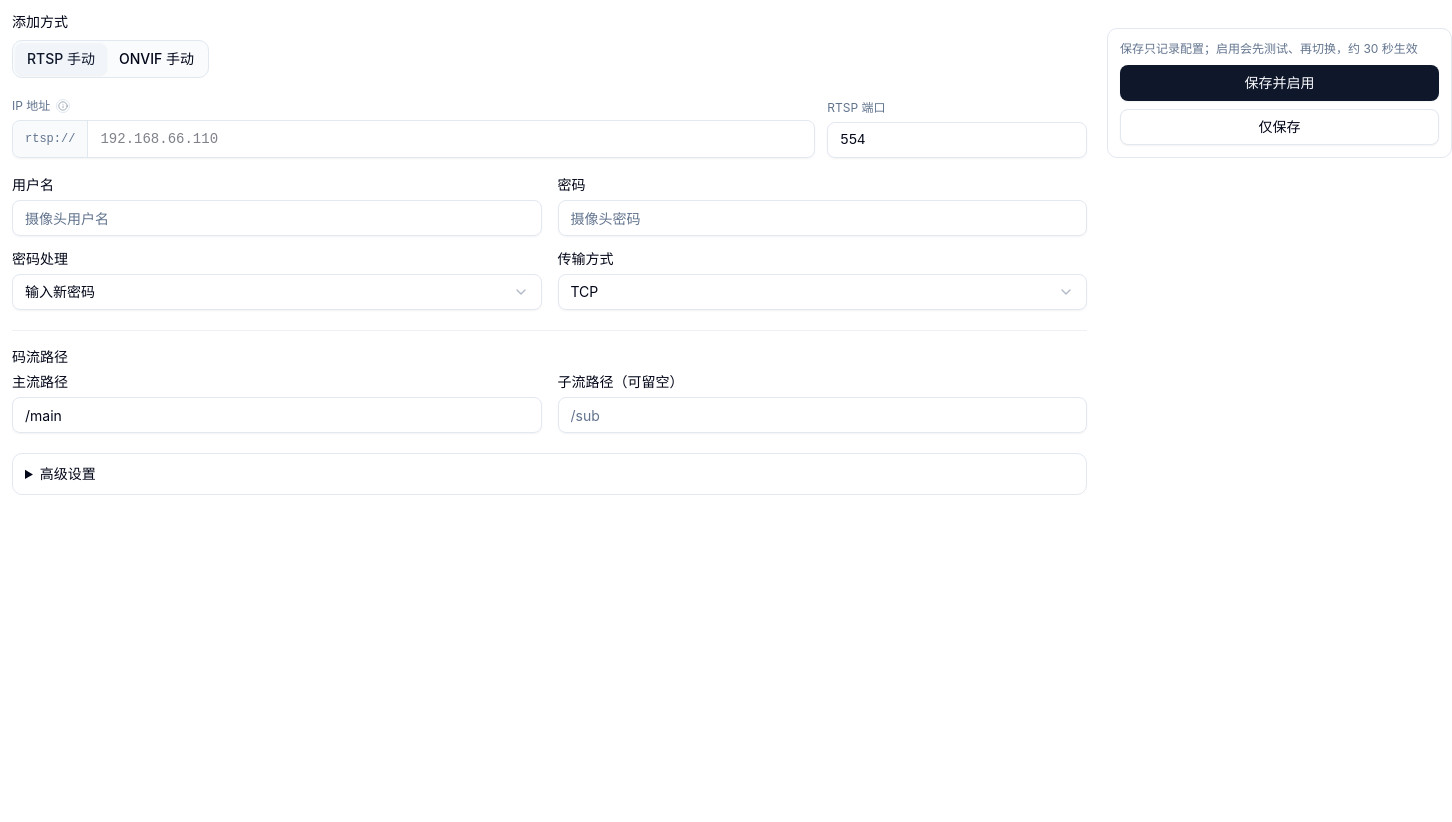
ONVIF asks the camera for its streams and fills the paths, never the password
Click the button "ONVIF 手动" at (156, 59), box [107,43,206,75]
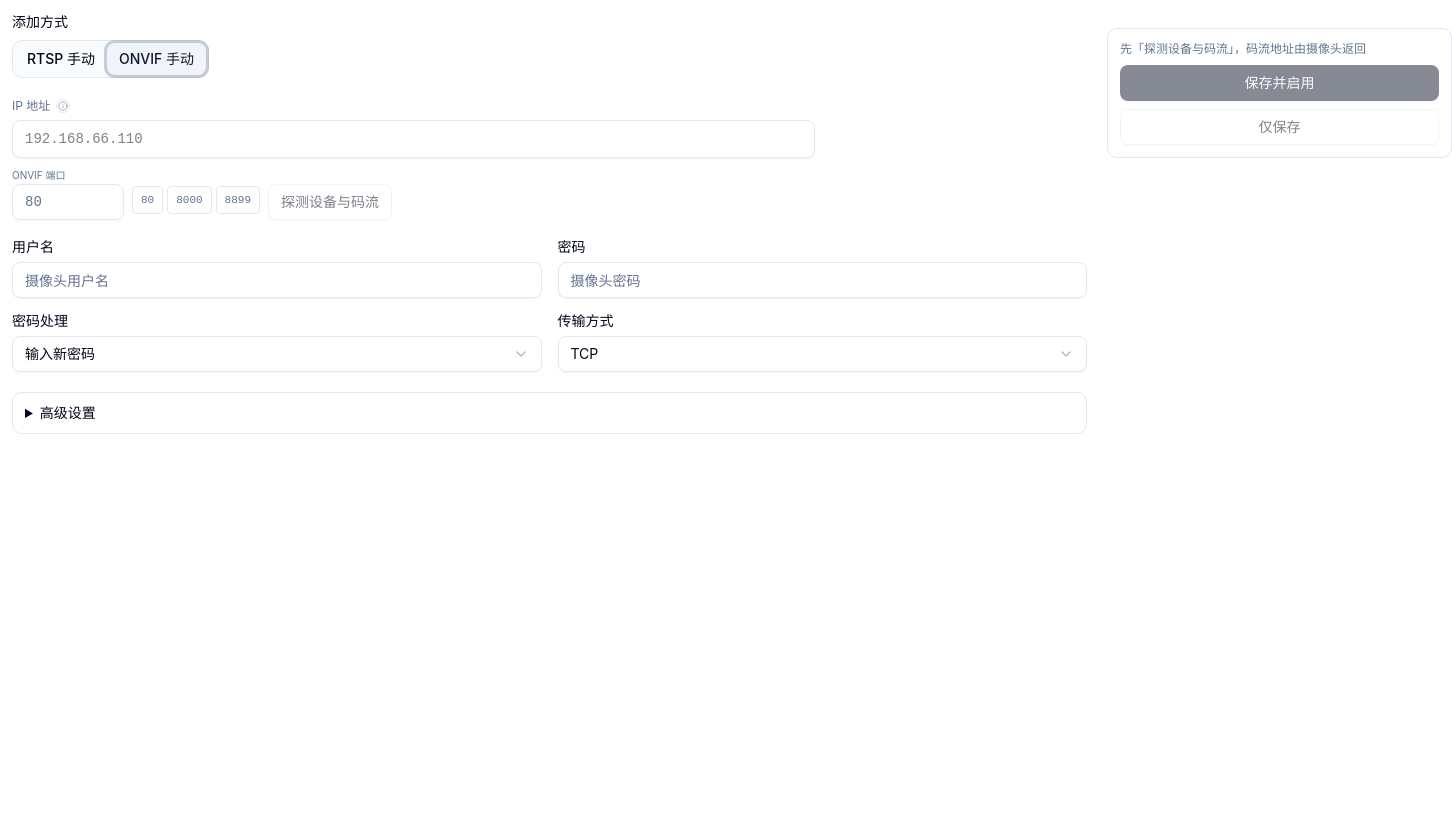
Now the button "仅保存" is disabled, box [1120,109,1439,145]
Type "192.168.33.20" into the field labelled "IP 地址" at (414, 139), box [13,121,814,157]
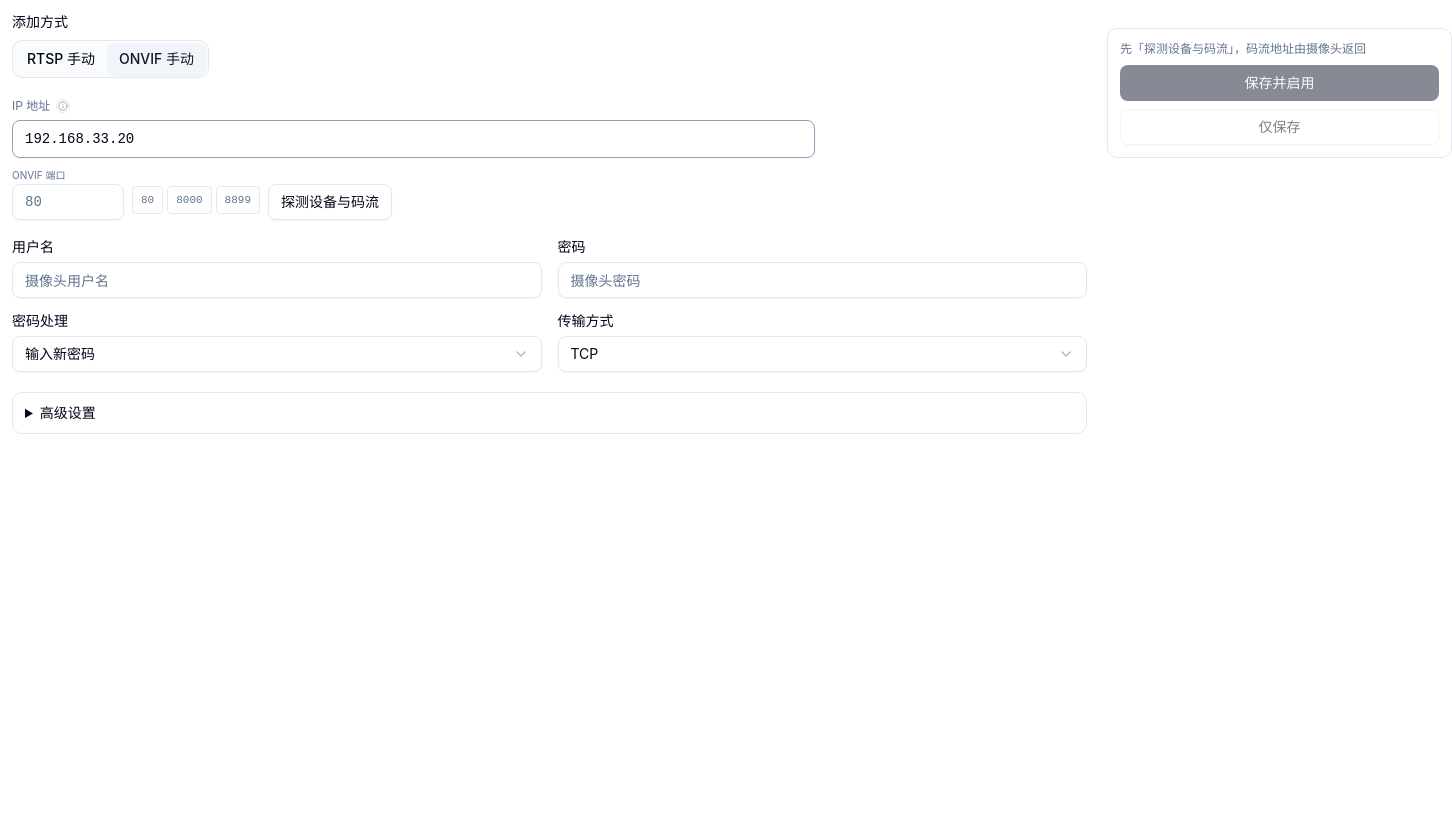
Type "8000" into the number field named "ONVIF 端口" at (68, 202), box [12,184,124,220]
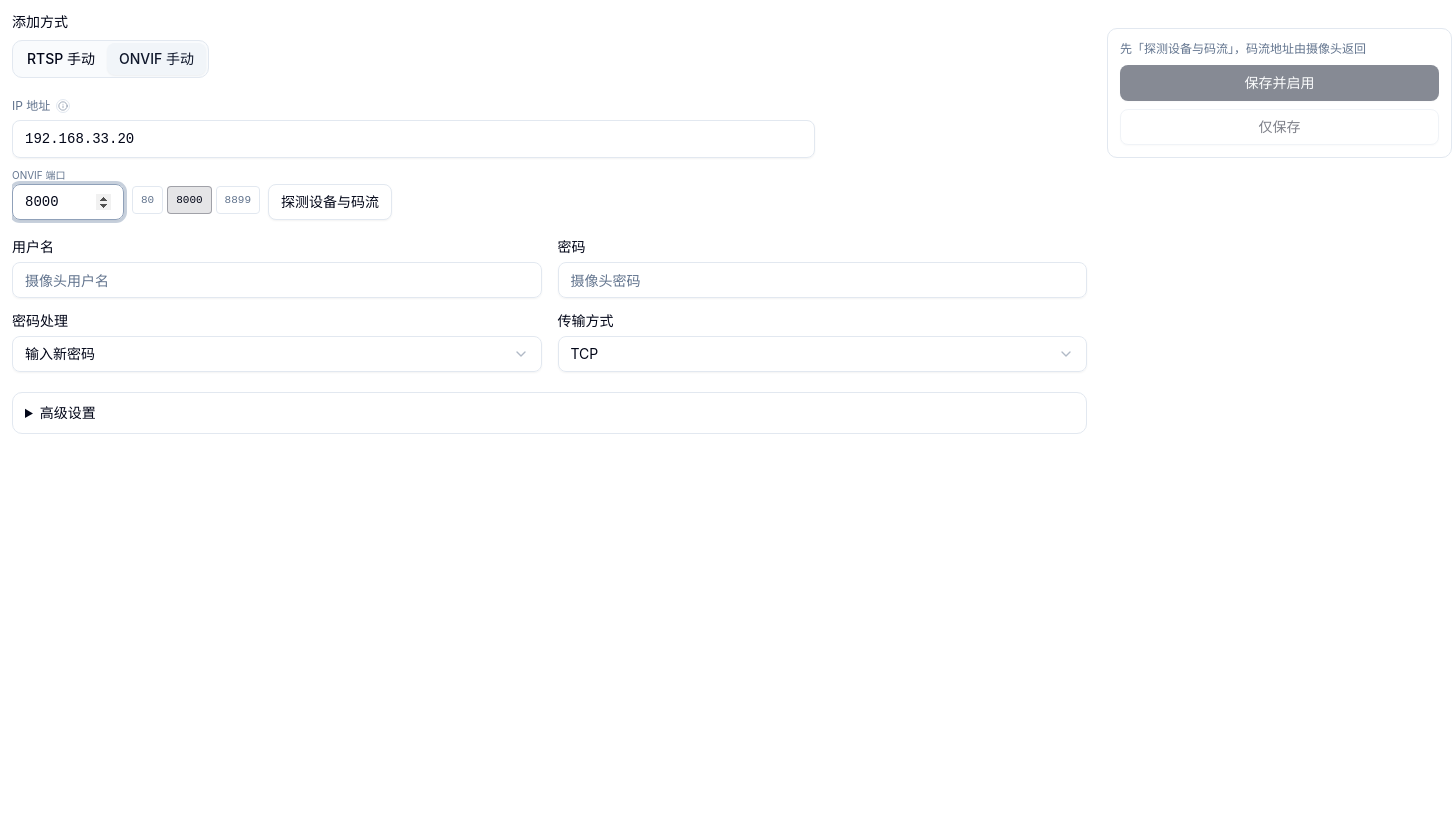
Click the button "探测设备与码流" at (330, 202), box [268,184,392,220]
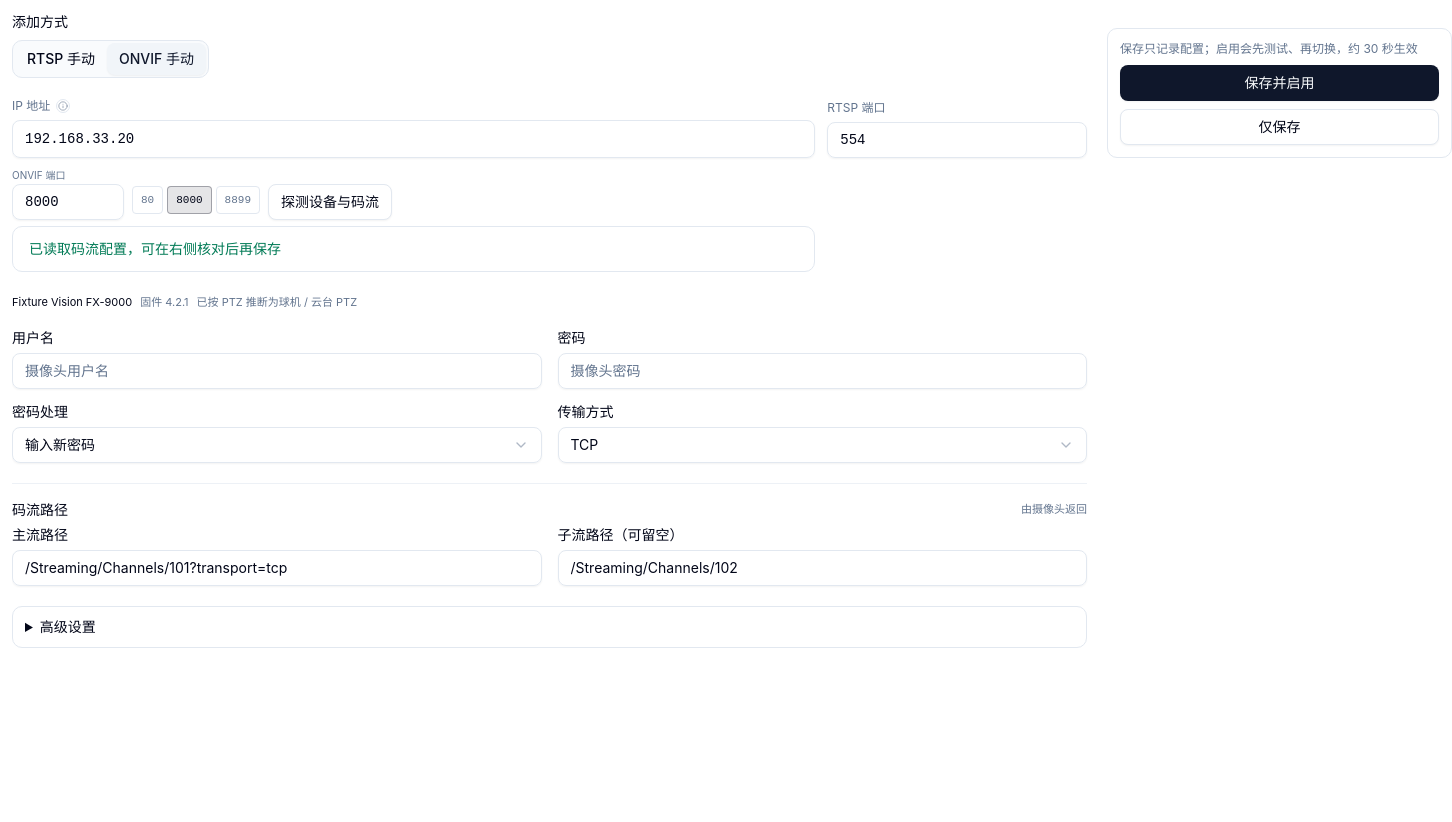
Now the text "Fixture Vision FX-9000" is shown, box [12,294,132,310]
Now the text "已按 PTZ 推断" is shown, box [197,295,357,309]
Now the field labelled "主流路径" holds "/Streaming/Channels/101?transport=tcp", box [12,550,542,586]
